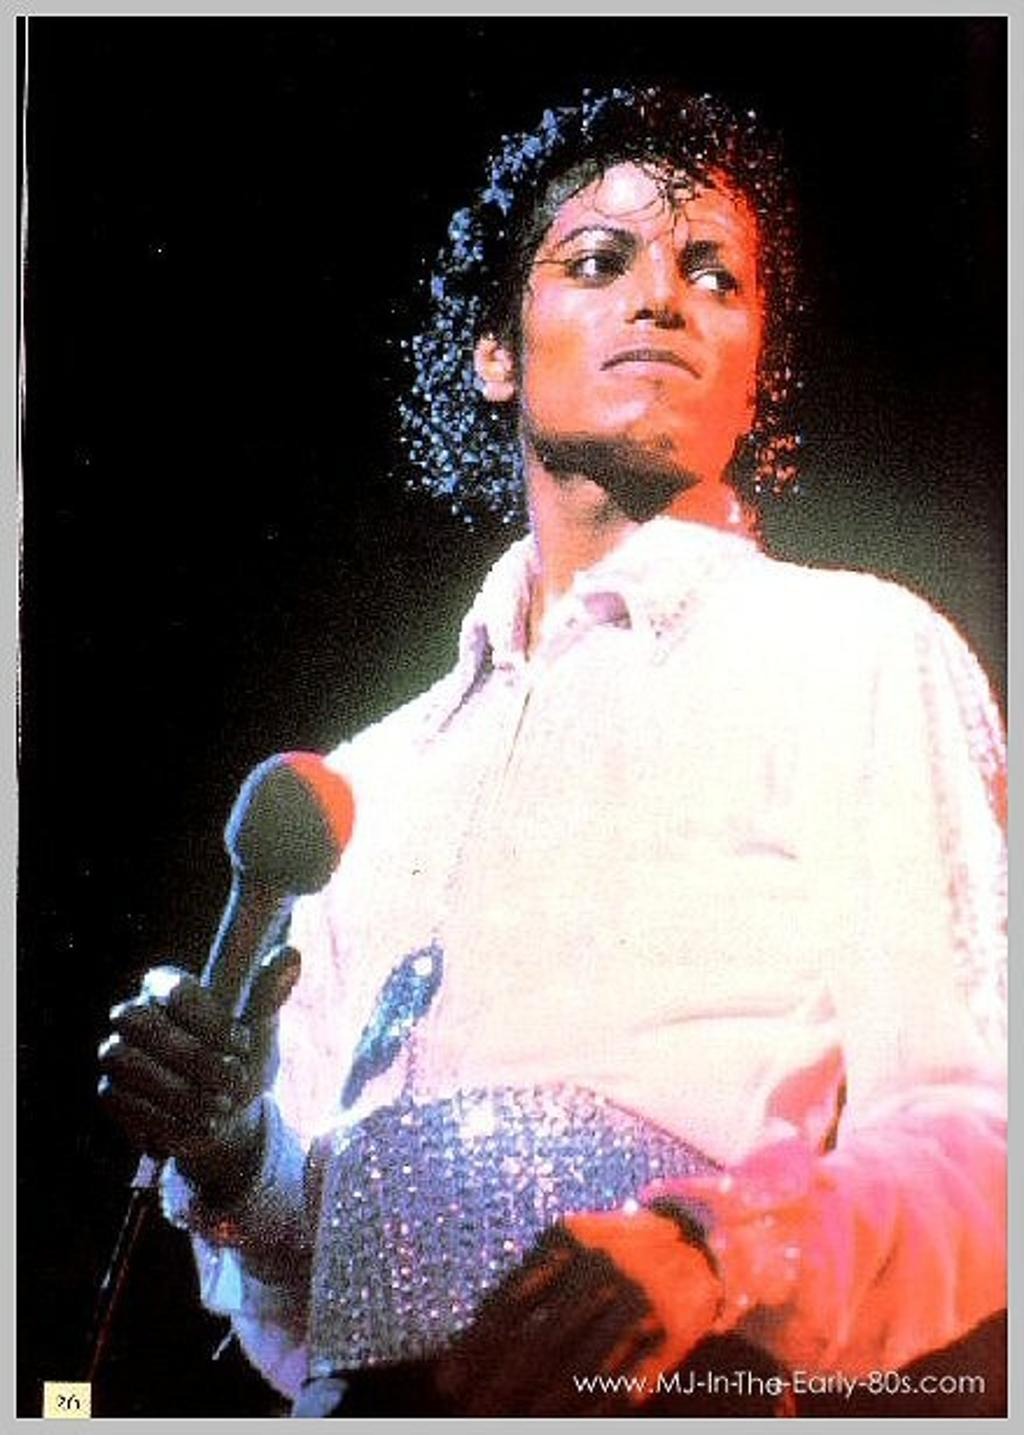face: (520, 155, 753, 489)
